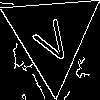V: (27, 11, 76, 68)
